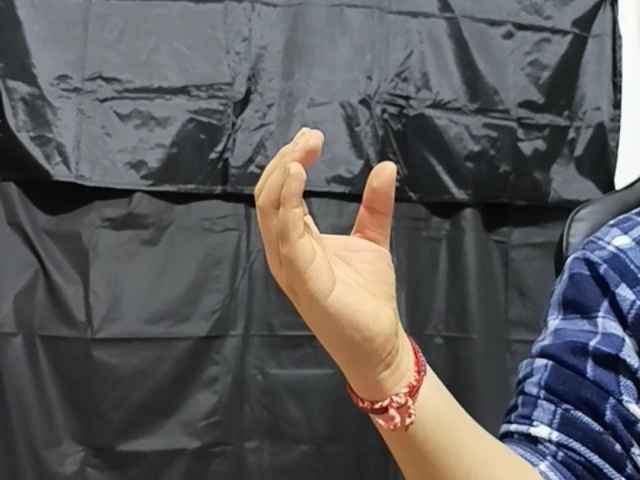C: (246, 123, 417, 355)
